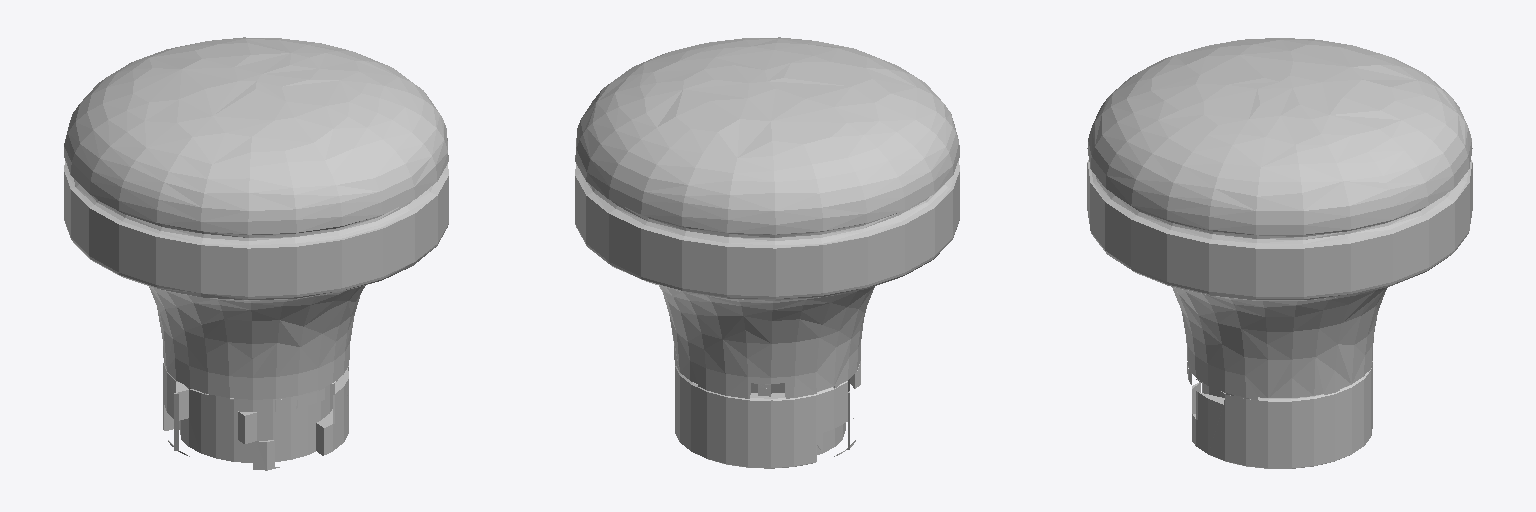
File: tinker.obj
The picture shows the model from 3 angles: view 1: azimuth 30°, elevation 25°; view 2: azimuth 150°, elevation 25°; view 3: azimuth 270°, elevation 25°; orthographic projection.
Visible parts, largest first — view 1: obj_0.019; view 2: obj_0.019; view 3: obj_0.019.
Part boxes in pixels (x1,y1,x2,y2): obj_0.019: (64,37,448,470); obj_0.019: (575,37,959,468); obj_0.019: (1087,38,1472,468).
Size of the model in its own units: 6 by 6 by 6.